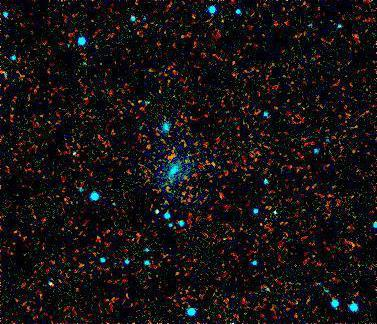star: (132, 130, 162, 160)
